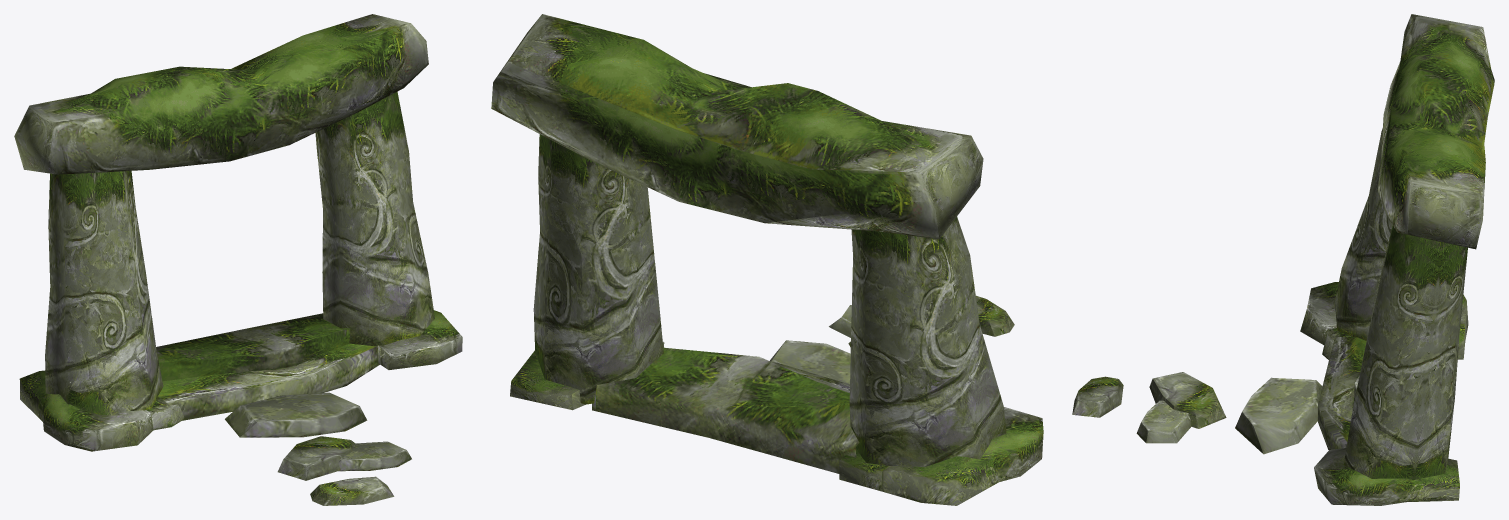
The model's file is 5012_Item_shitou_2.FBX.
3 views of the same model, side by side, from view 1: azimuth 30°, elevation 25°; view 2: azimuth 150°, elevation 25°; view 3: azimuth 270°, elevation 25° (orthographic). The views are drawn at different scales.
Parts seen in each view (by area): view 1: 5012_Item_shitou_2; view 2: 5012_Item_shitou_2; view 3: 5012_Item_shitou_2.
Part boxes in pixels (x1=…): 5012_Item_shitou_2: x1=14, y1=14, x2=462, y2=505; 5012_Item_shitou_2: x1=491, y1=14, x2=1043, y2=505; 5012_Item_shitou_2: x1=1072, y1=14, x2=1494, y2=505.
Bounding box in the file's own units: 537 × 408 × 471.
